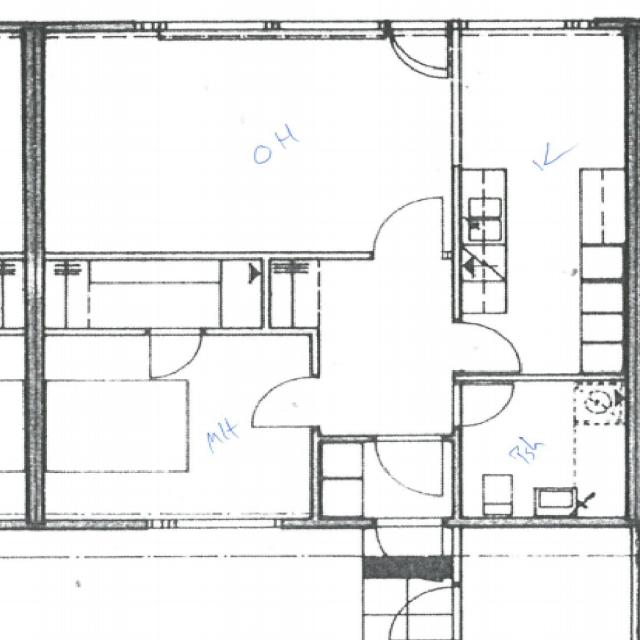door: (373, 196, 442, 259), (376, 518, 442, 583), (375, 434, 442, 498), (390, 587, 460, 639), (452, 322, 520, 372), (252, 377, 319, 427), (389, 22, 447, 78), (149, 328, 201, 378), (452, 383, 512, 426)
